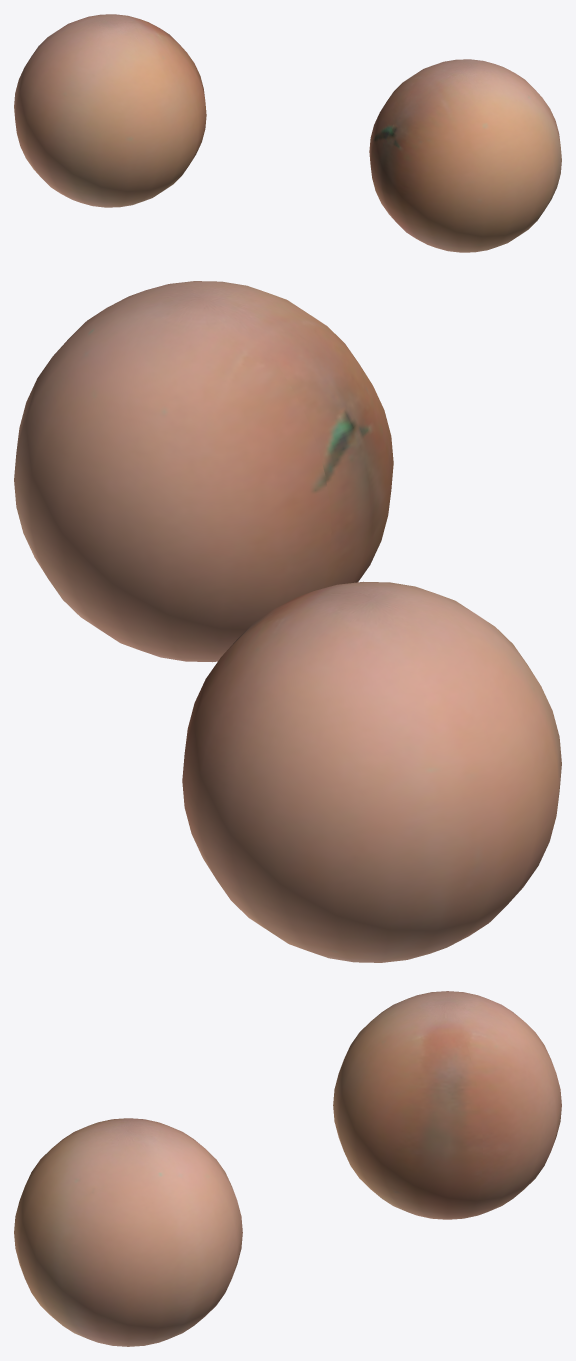
File: Hands_Look_03.fbx
3 renders of one model, top to bottom at view 1: azimuth 30°, elevation 25°; view 2: azimuth 150°, elevation 25°; view 3: azimuth 270°, elevation 25°, orthographic. The views are drawn at different scales.
Visible parts, largest first — view 1: Hands_Look_03; view 2: Hands_Look_03; view 3: Hands_Look_03.
Boxes of the visible parts, bbox=[...] form: Hands_Look_03: bbox=[14, 14, 561, 252]; Hands_Look_03: bbox=[14, 281, 561, 962]; Hands_Look_03: bbox=[14, 991, 561, 1346].
Bounding box in the file's own units: 77.72 × 33.59 × 80.41.
Materials: 1 (1 with a texture image).
